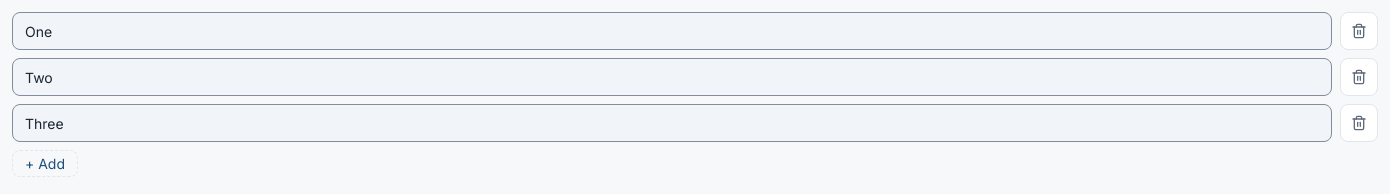
Test: shared form parts › a plain list never leaves a confirmation open on the wrong row either (UX-15)
This screenshot has width=1390, height=194.
Click the button named "Remove: Scope · Row 2" at [1359, 77], box [1340,58,1378,96]
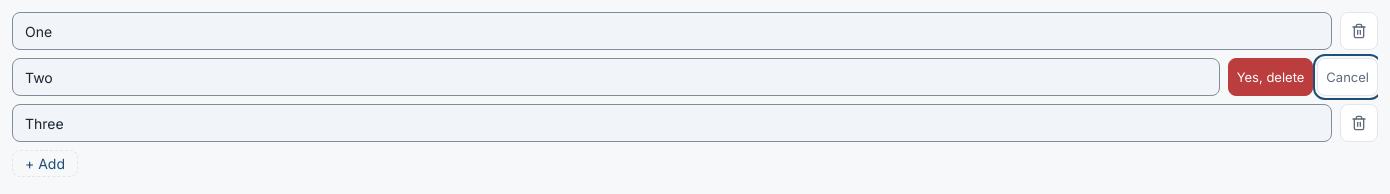
Click the button named "Remove: Scope · Row 1" at [1359, 31], box [1340,12,1378,50]
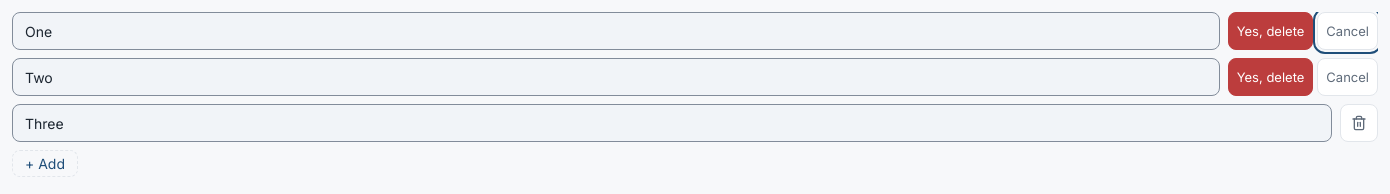
Click the 1st button "Yes, delete" at [1270, 31], box [1228,12,1313,50]
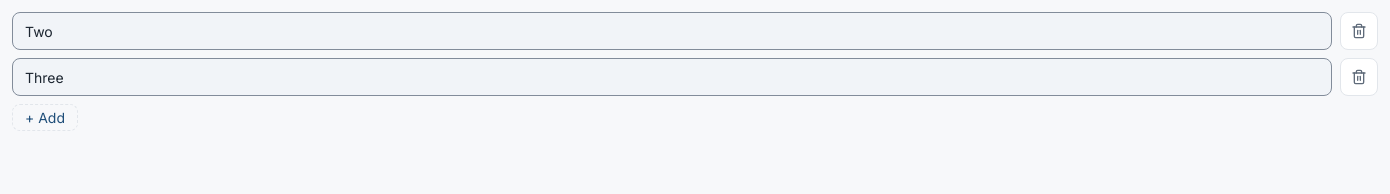
expect the button "Yes, delete" is gone: met
expect the field named "Scope · Row 1" holds "Two": met, box [12,12,1332,50]
